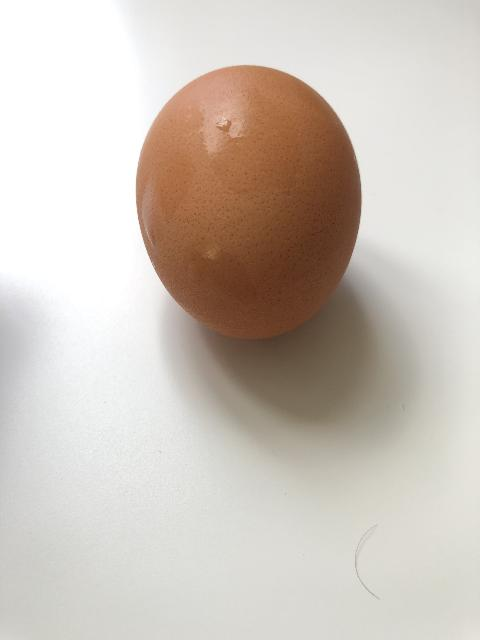Sano: (134, 63, 363, 341)
